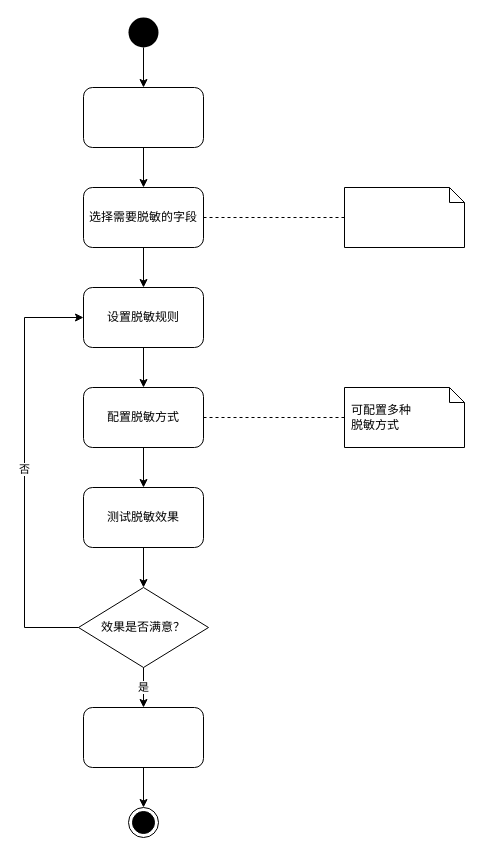
Some shapes in this 482 by 855 pixel diagram are drawn without their labels. Here are the shapes that lost their labels. From the top down, the centre of each, then its label:
At (143,117): "选择样本类型".
At (404,217): "支持对敏感字段 进行脱敏处理".
At (143,737): "保存脱敏配置".
